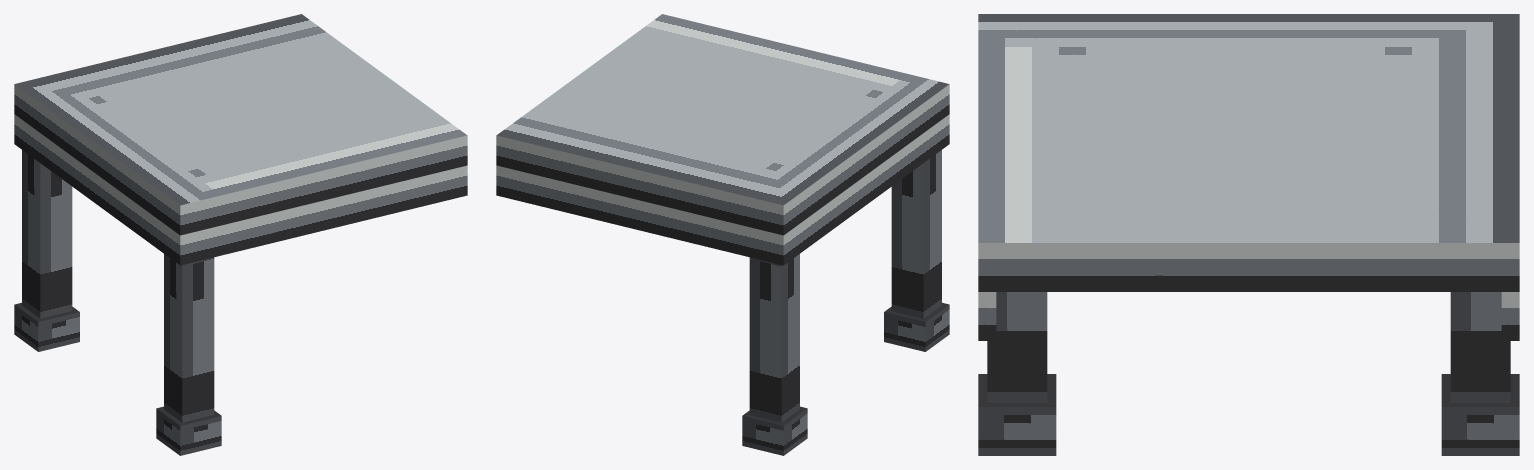
Rendered from reinforced_table_end_2legs.glb.
3 views of the same model, side by side, from view 1: azimuth 30°, elevation 25°; view 2: azimuth 150°, elevation 25°; view 3: azimuth 270°, elevation 25° (orthographic). The views are drawn at different scales.
Visible parts, largest first — view 1: reinforced_table_end_2legs; view 2: reinforced_table_end_2legs; view 3: reinforced_table_end_2legs.
Boxes of the visible parts, x1,y1,x2,y2 form: reinforced_table_end_2legs: (14, 14, 467, 455); reinforced_table_end_2legs: (496, 14, 949, 455); reinforced_table_end_2legs: (978, 14, 1519, 455).
Size of the model in its own units: 0.9 by 0.75 by 0.9.
1 material, 1 textured.
